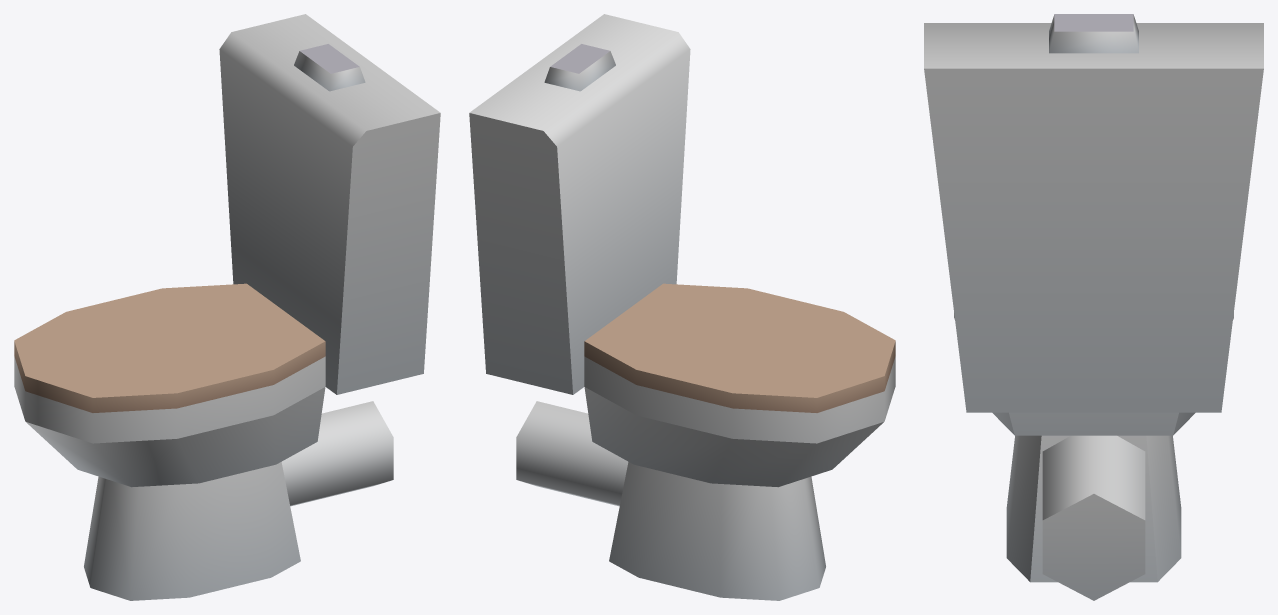
Rendered from toilet.glb.
3 views of the same model, side by side, from view 1: azimuth 30°, elevation 25°; view 2: azimuth 150°, elevation 25°; view 3: azimuth 270°, elevation 25° (orthographic). The views are drawn at different scales.
Parts seen in each view (by area): view 1: toilet; view 2: toilet; view 3: toilet.
Boxes of the visible parts, x1,y1,x2,y2 form: toilet: (14, 14, 440, 600); toilet: (469, 14, 895, 600); toilet: (924, 14, 1263, 600).
Size of the model in its own units: 0.6833 by 0.8835 by 0.4594.
